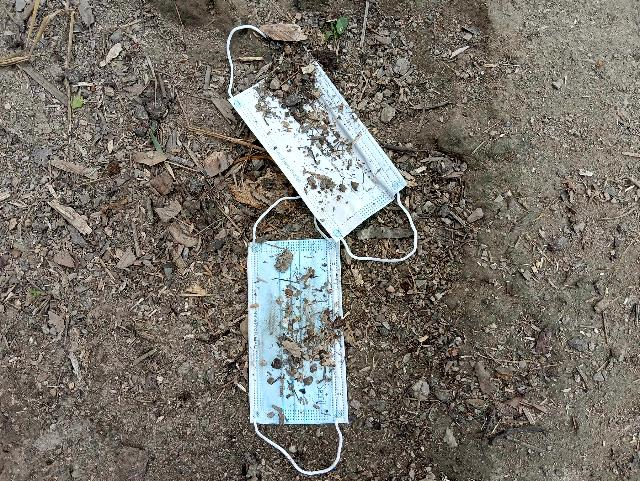mask: (220, 14, 427, 253)
